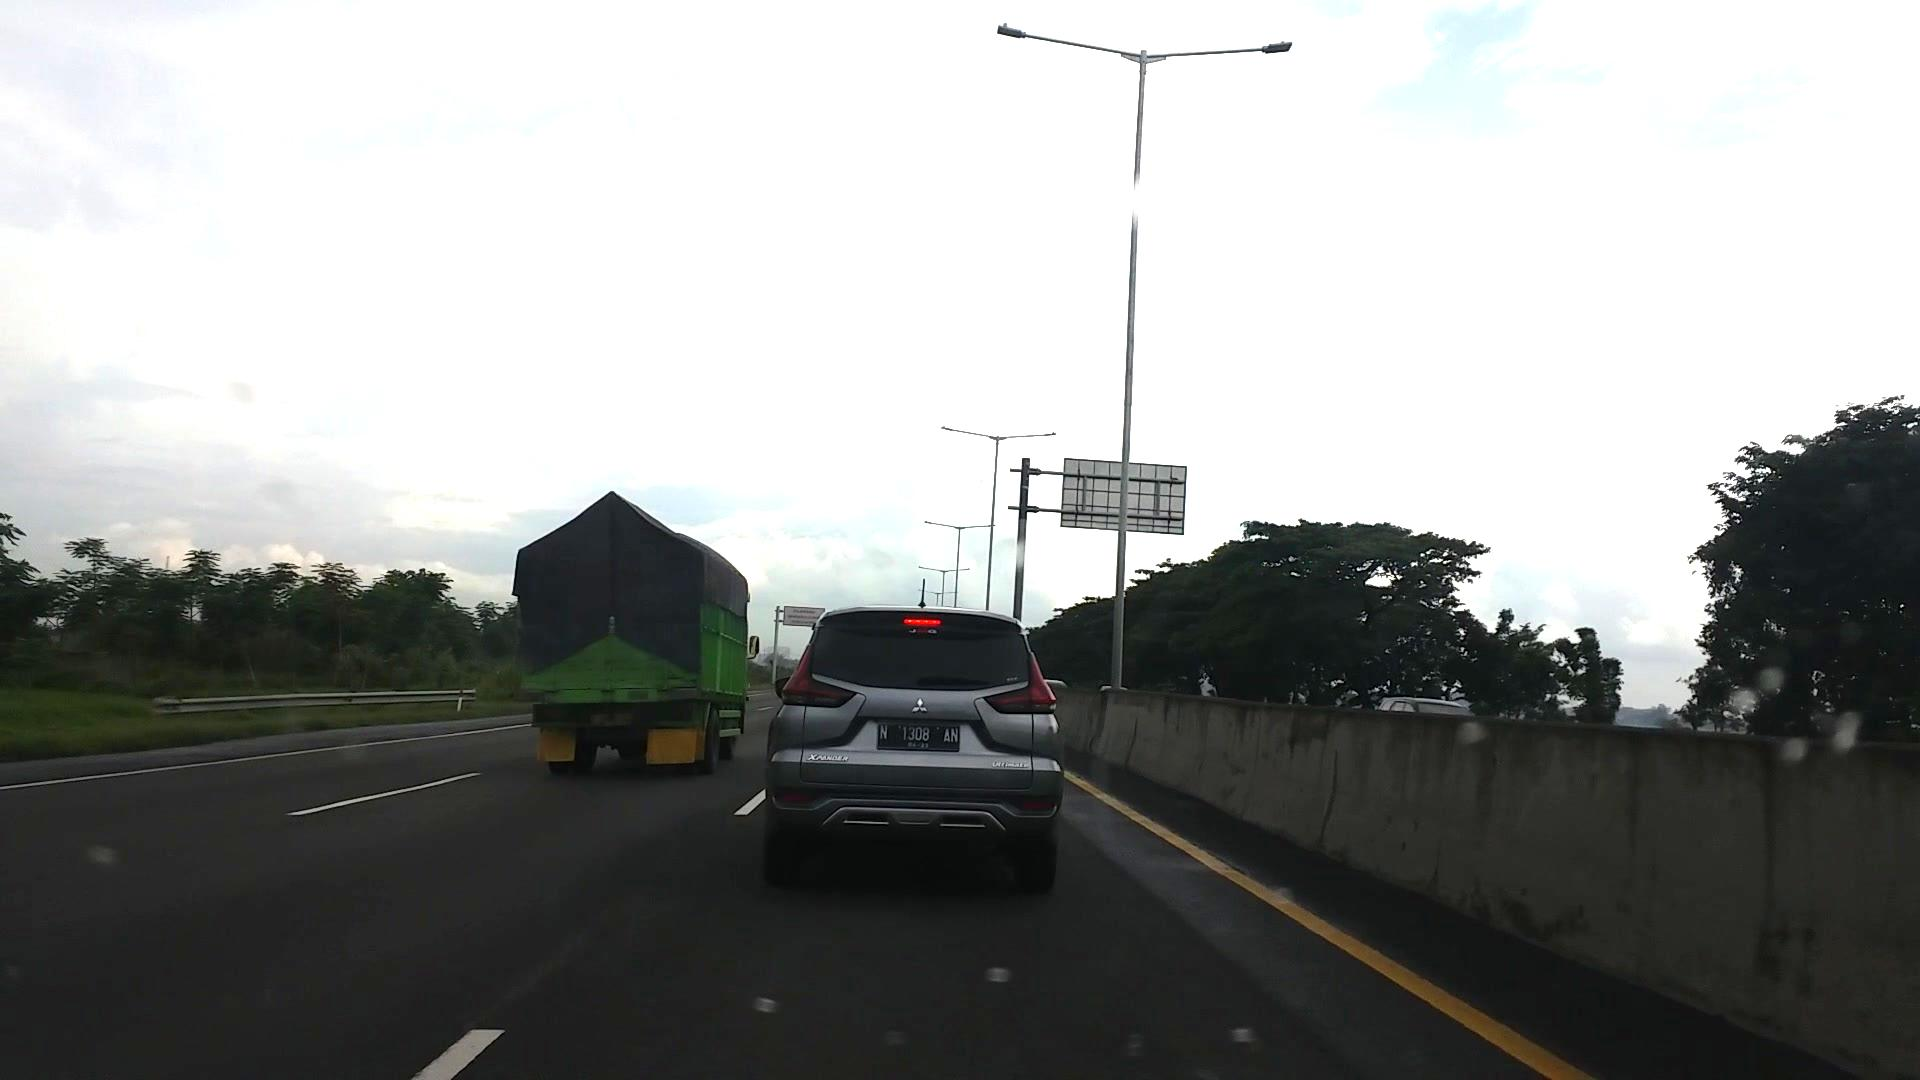plate_positive: (877, 723, 960, 752)
